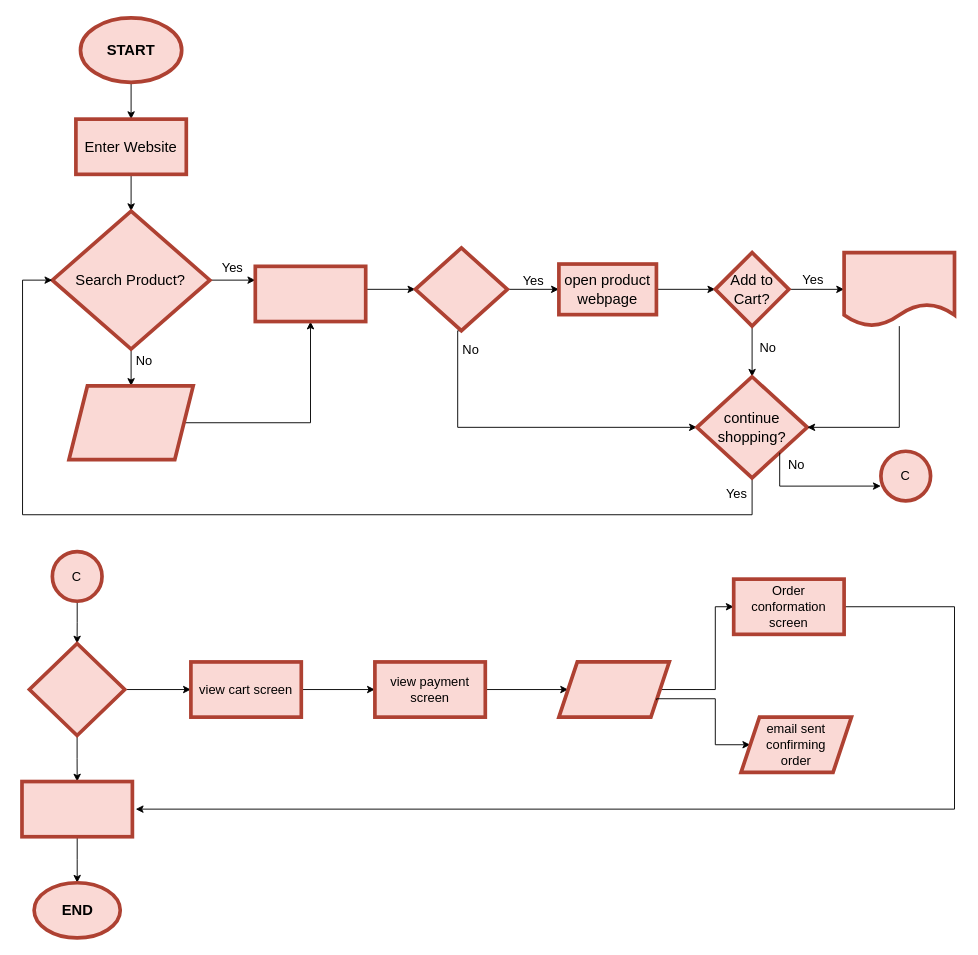
Some shapes in this 978 by 955 pixel diagram are drawn without their labels. Each missing label, with the centre of its shape:
"Added to cart confirmation" belongs at [899,289].
"Checkout?" belongs at [76,689].
"Leave website" belongs at [77,808].
"Look over products" belongs at [310,293].
"payment info" belongs at [614,689].
"search input" belongs at [131,422].
"View Product?" belongs at [461,289].
